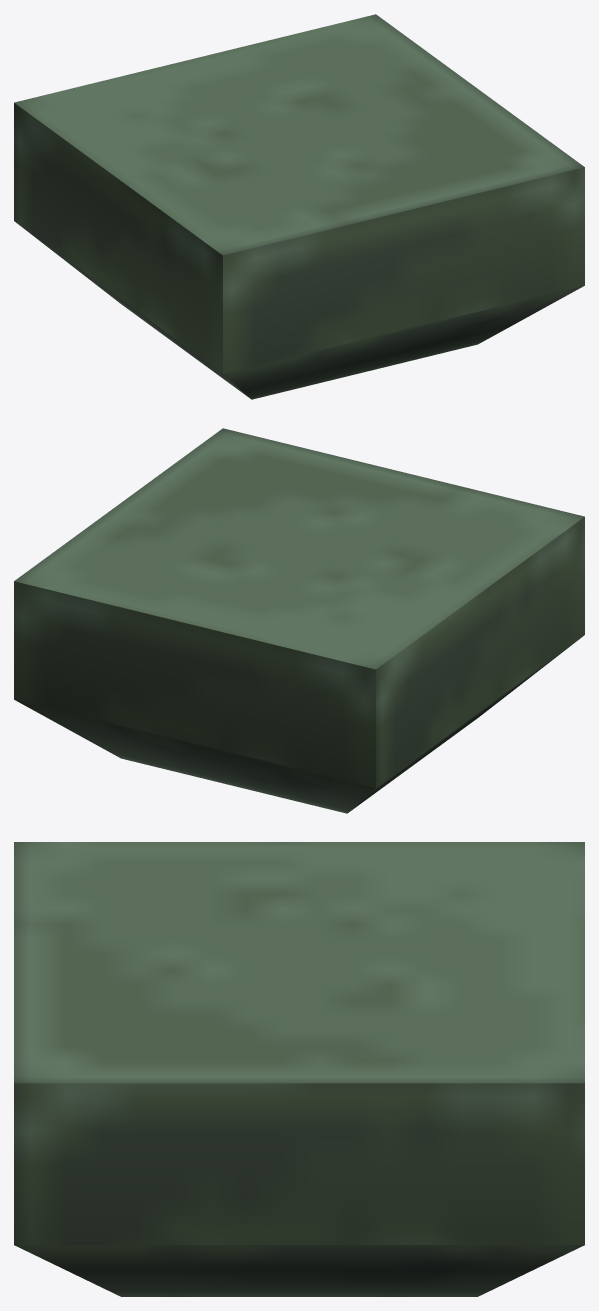
Rendered from pillar_top_type_02_green.fbx.
3 views of the same model, one above another, from view 1: azimuth 30°, elevation 25°; view 2: azimuth 150°, elevation 25°; view 3: azimuth 270°, elevation 25° (orthographic). The views are drawn at different scales.
Visible parts, largest first — view 1: pillar_top_type_02_green; view 2: pillar_top_type_02_green; view 3: pillar_top_type_02_green.
Part boxes in pixels (box(x1,y1,x2,y2)): pillar_top_type_02_green: box(14, 14, 584, 399); pillar_top_type_02_green: box(14, 428, 584, 813); pillar_top_type_02_green: box(14, 842, 584, 1296).
Bounding box in the file's own units: 16 × 8 × 16.
